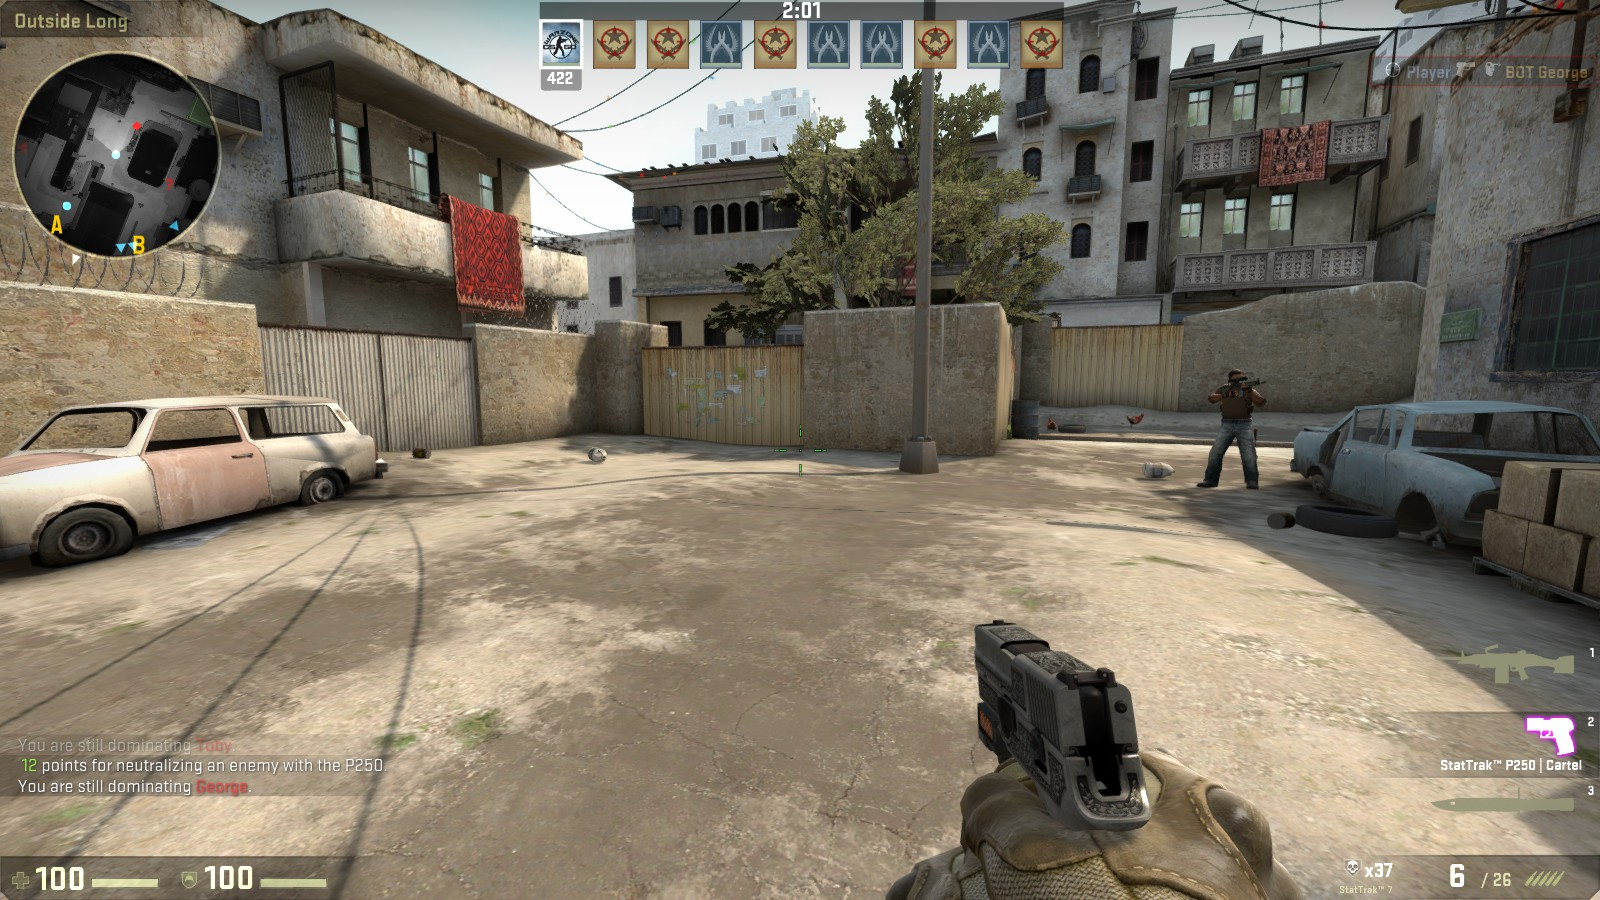t: (1205, 368, 1262, 490)
th: (1225, 368, 1248, 388)
